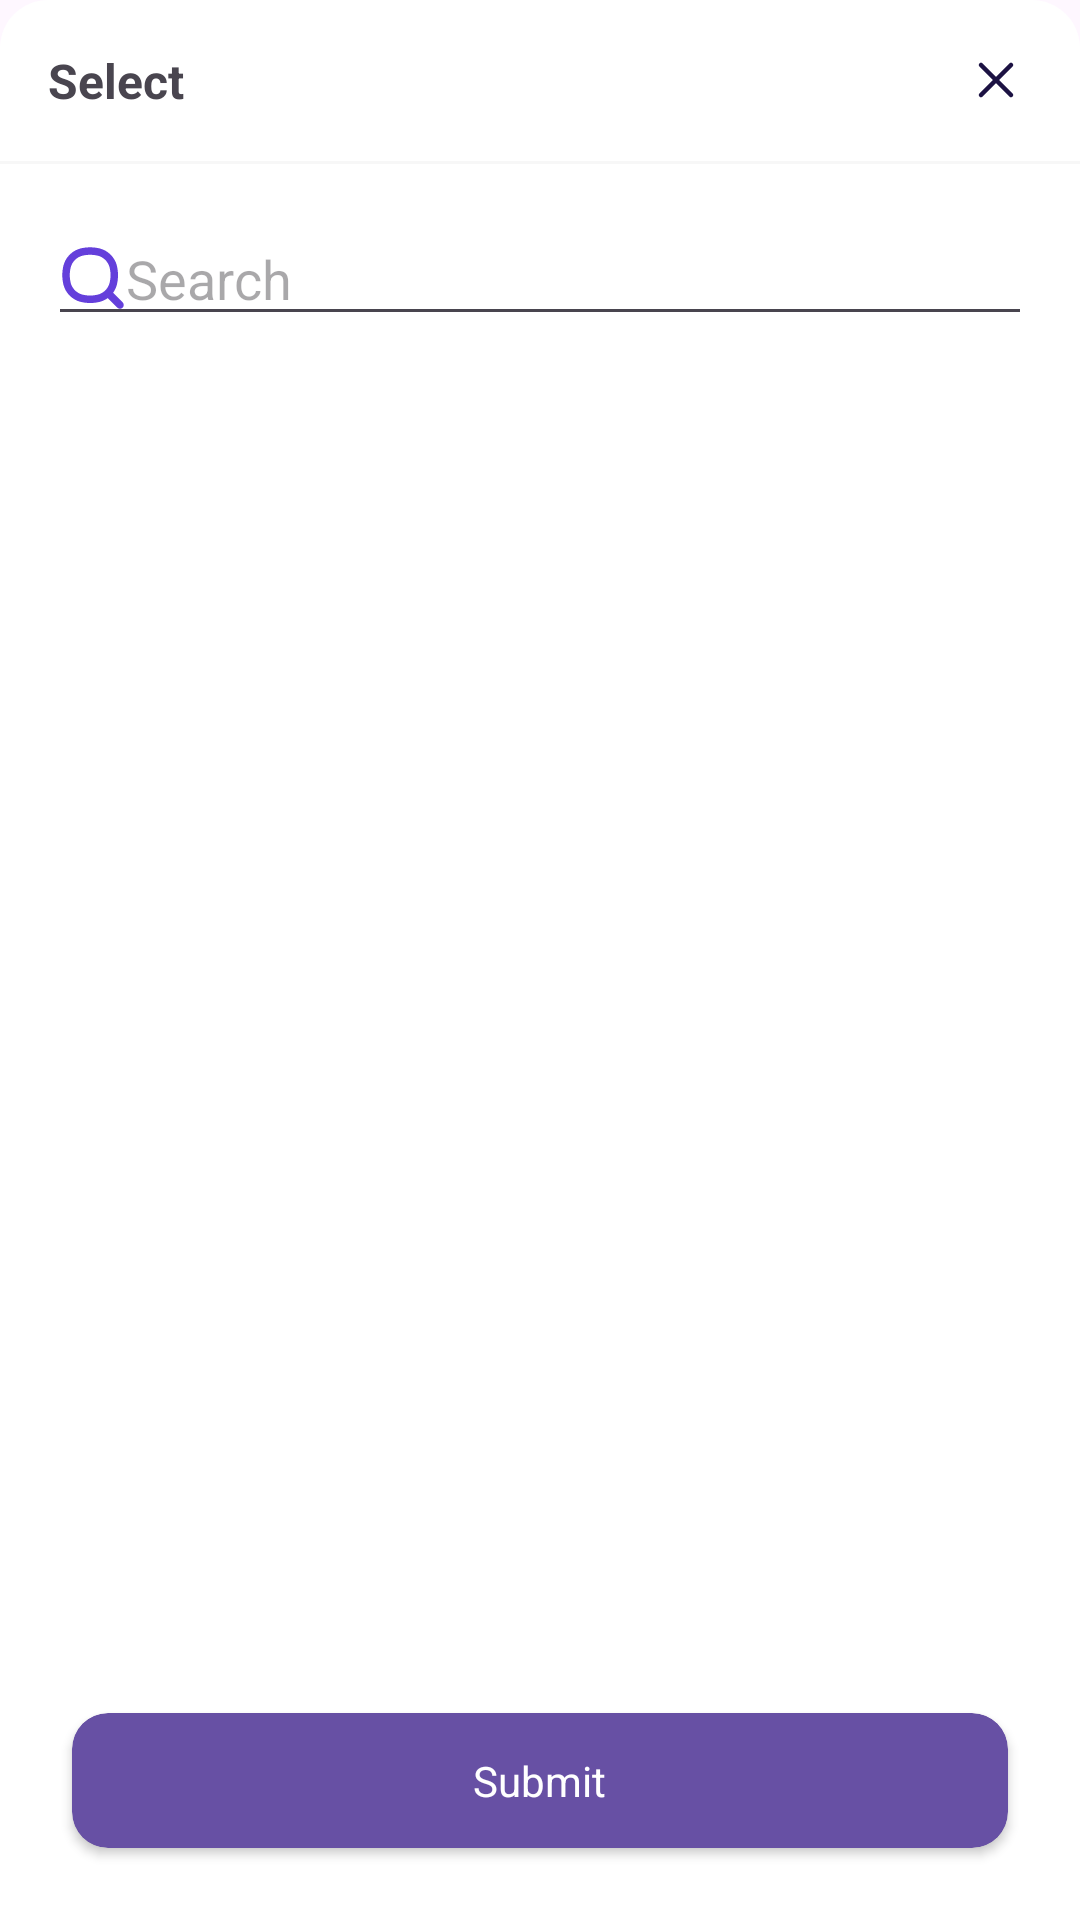

Icon bounding boxes for this 1080px x 1920px phone screenshot, format (x1,y1,x2,y2):
close: (978,62,1014,98)
